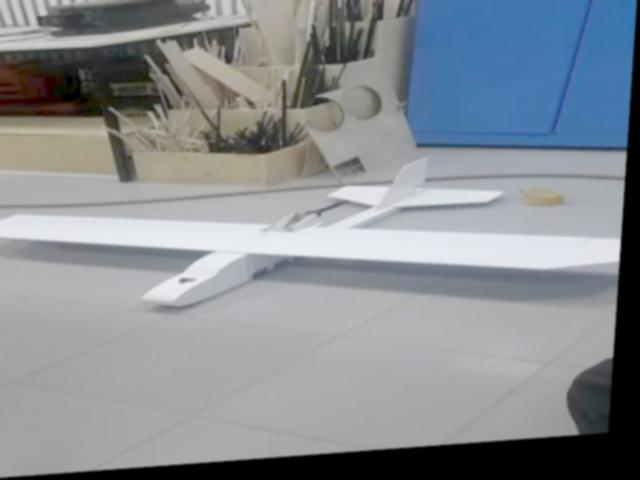uav: (0, 153, 630, 322)
